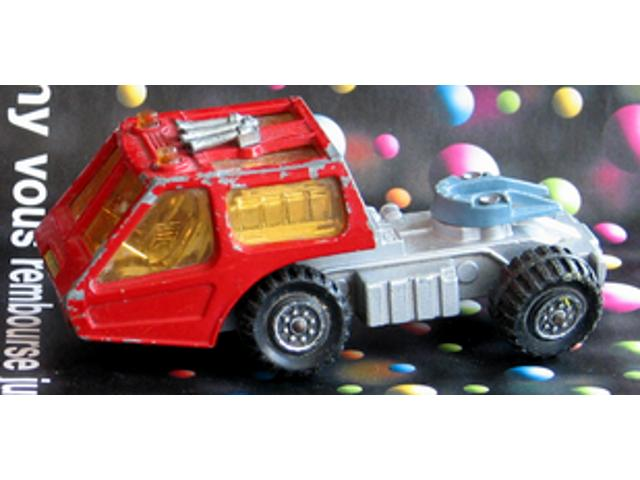toy-car: (32, 93, 609, 380)
